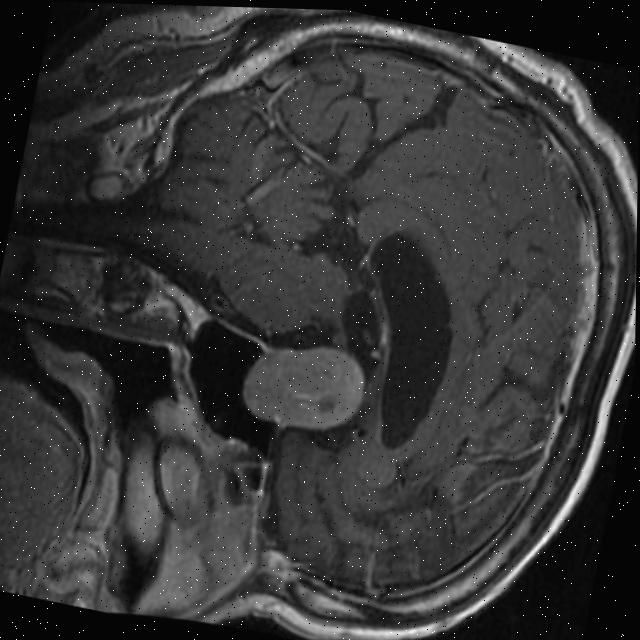Pituitary: (236, 330, 372, 442)
